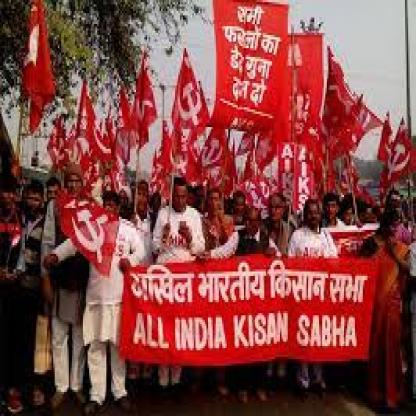BANNER: (116, 254, 385, 374)
